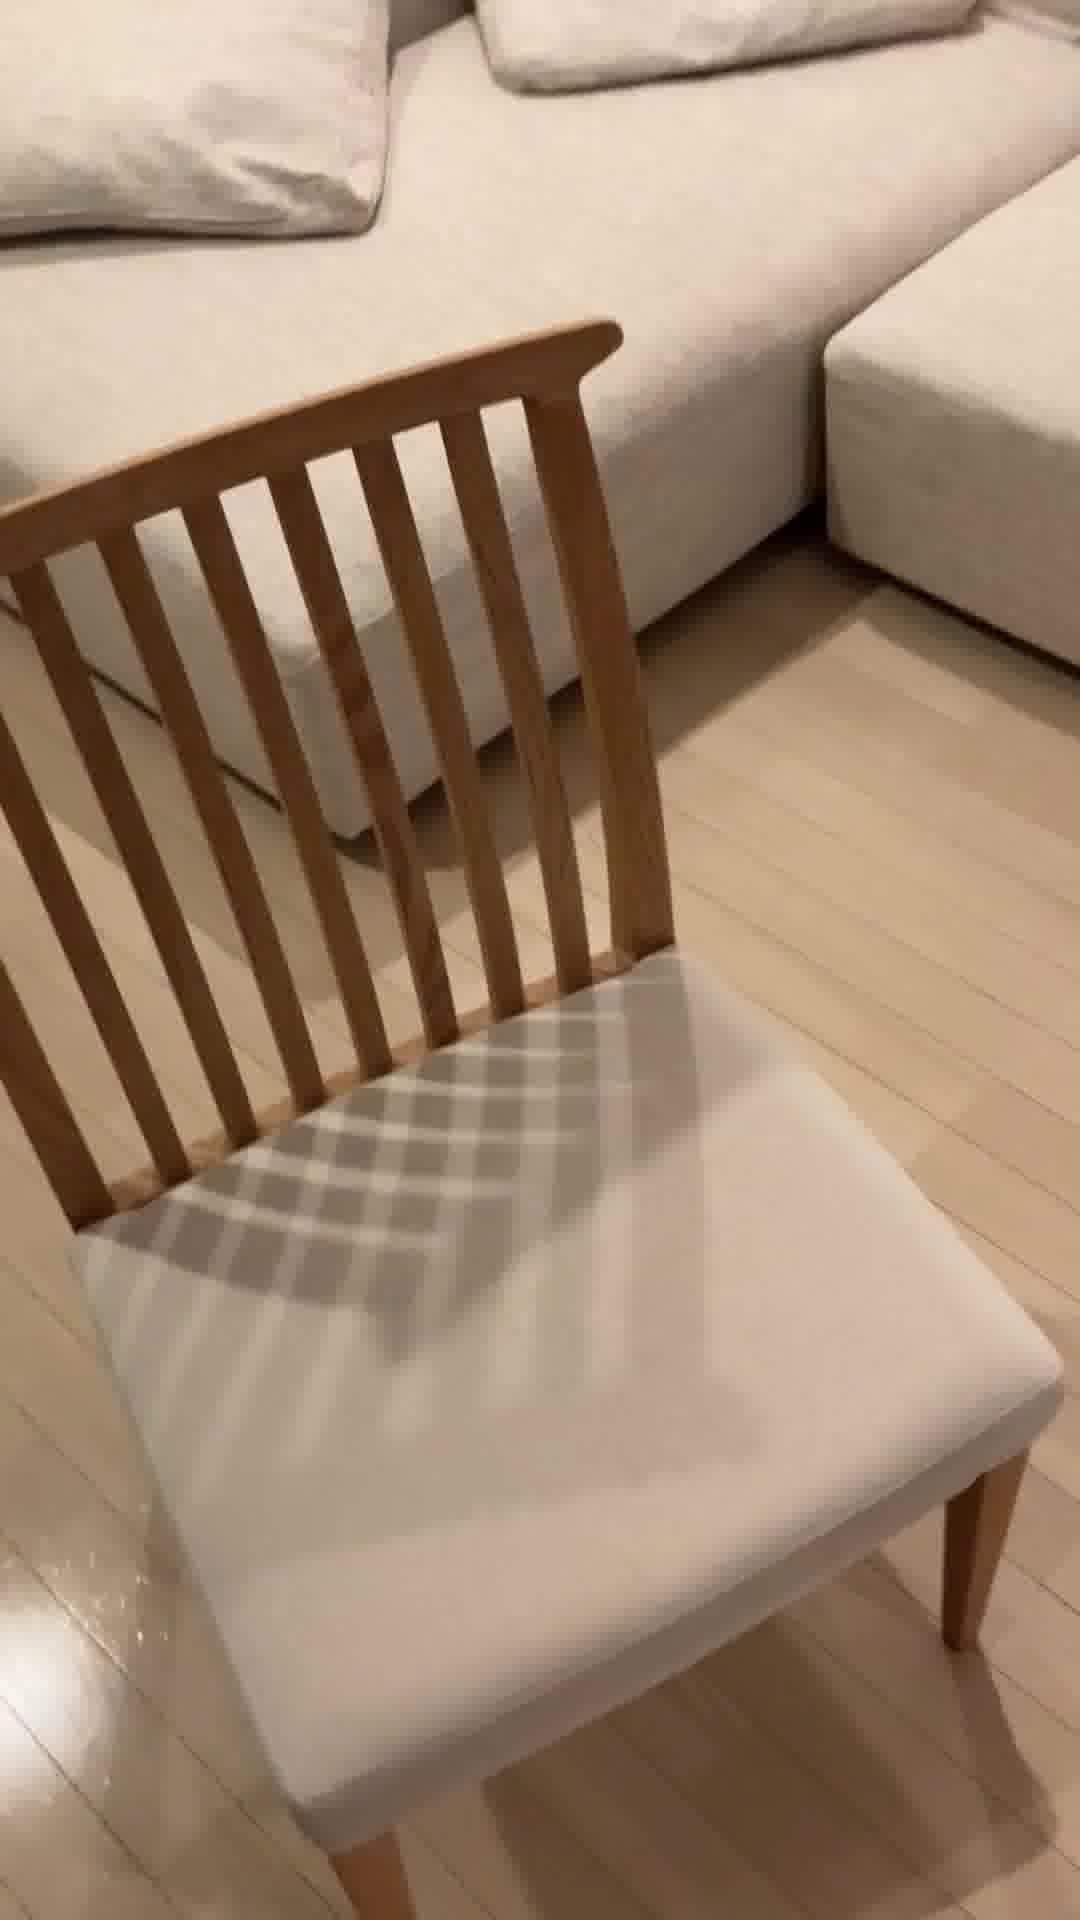takumikan-chair: (0, 314, 1065, 1920)
